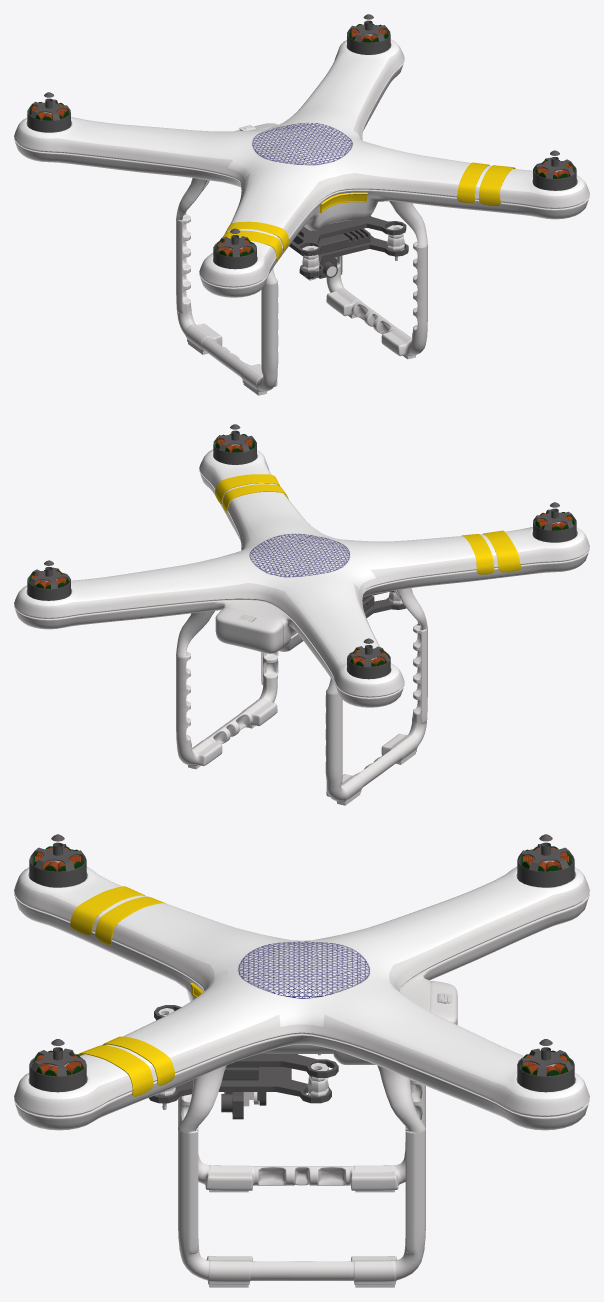
File: flightlessdrone.glb
The picture shows the model from 3 angles, top to bottom: view 1: azimuth 30°, elevation 25°; view 2: azimuth 150°, elevation 25°; view 3: azimuth 270°, elevation 25°; orthographic projection. The views are drawn at different scales.
Visible parts, largest first — view 1: Dronr_body8, leg_rt_main1, leg_lf_main1, Drone_bands1, camera_plate_top1, camera_plate_btm1, pCube10, motor_top3, motor_top2, motor_top1, motor_top4, Dronr_body7; view 2: Dronr_body8, leg_rt_main1, leg_lf_main1, Drone_bands1, Drone_battery1, motor_top1, motor_top4, motor_top3, motor_top2; view 3: Dronr_body8, leg_lf_main1, leg_rt_main1, Drone_bands1, camera_plate_btm1, camera_plate_top1, motor_top2, motor_top4, motor_top1, motor_top3, Drone_battery1, motor_base1 (+3 smaller).
Boxes of the visible parts, x1=… form: Dronr_body8: x1=14, y1=39, x2=589, y2=297; leg_rt_main1: x1=176, y1=178, x2=278, y2=393; leg_lf_main1: x1=326, y1=201, x2=427, y2=356; Drone_bands1: x1=222, y1=162, x2=515, y2=261; camera_plate_top1: x1=297, y1=216, x2=406, y2=255; camera_plate_btm1: x1=289, y1=235, x2=408, y2=277; pCube10: x1=293, y1=228, x2=370, y2=254; motor_top3: x1=213, y1=235, x2=256, y2=259; motor_top2: x1=533, y1=157, x2=576, y2=181; motor_top1: x1=27, y1=98, x2=70, y2=122; motor_top4: x1=347, y1=20, x2=390, y2=44; Dronr_body7: x1=319, y1=192, x2=367, y2=213; Dronr_body8: x1=14, y1=449, x2=589, y2=707; leg_rt_main1: x1=325, y1=588, x2=427, y2=803; leg_lf_main1: x1=176, y1=610, x2=278, y2=766; Drone_bands1: x1=215, y1=474, x2=521, y2=574; Drone_battery1: x1=215, y1=607, x2=283, y2=653; motor_top1: x1=347, y1=645, x2=390, y2=669; motor_top4: x1=27, y1=567, x2=70, y2=591; motor_top3: x1=533, y1=508, x2=576, y2=532; motor_top2: x1=213, y1=430, x2=256, y2=454; Dronr_body8: x1=14, y1=866, x2=589, y2=1130; leg_lf_main1: x1=178, y1=1065, x2=425, y2=1284; leg_rt_main1: x1=178, y1=1079, x2=425, y2=1190; Drone_bands1: x1=70, y1=886, x2=174, y2=1096; camera_plate_btm1: x1=149, y1=1067, x2=331, y2=1103; camera_plate_top1: x1=154, y1=1005, x2=338, y2=1077; motor_top2: x1=29, y1=1047, x2=86, y2=1079; motor_top4: x1=517, y1=1047, x2=574, y2=1079; motor_top1: x1=517, y1=842, x2=574, y2=874; motor_top3: x1=29, y1=842, x2=86, y2=874; Drone_battery1: x1=429, y1=981, x2=457, y2=1024; motor_base1: x1=517, y1=858, x2=574, y2=887.
Bounding box in the file's own units: 25.11 × 14.41 × 25.05.
8 materials, 1 textured.
